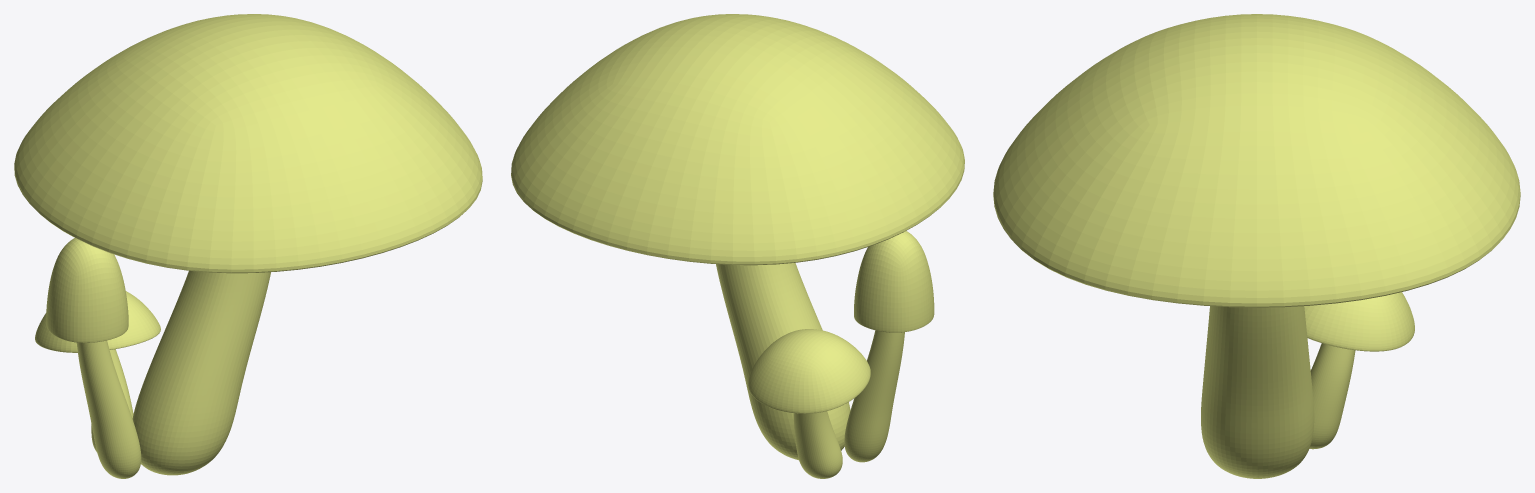
The model's file is mushrooms.fbx.
The picture shows the model from 3 angles, left to right: view 1: azimuth 30°, elevation 25°; view 2: azimuth 150°, elevation 25°; view 3: azimuth 270°, elevation 25°; orthographic projection. The views are drawn at different scales.
Visible parts, largest first — view 1: Cube, Cube.001, Cube.002; view 2: Cube, Cube.001, Cube.002; view 3: Cube, Cube.002.
Part boxes in pixels (x1,y1,x2,y2): Cube: (14, 14, 482, 475); Cube.001: (46, 238, 141, 478); Cube.002: (35, 291, 160, 451); Cube: (511, 14, 964, 460); Cube.001: (844, 231, 934, 462); Cube.002: (748, 329, 870, 478); Cube: (993, 14, 1520, 478); Cube.002: (1304, 292, 1414, 449).
Size of the model in its own units: 384 by 384 by 384.
